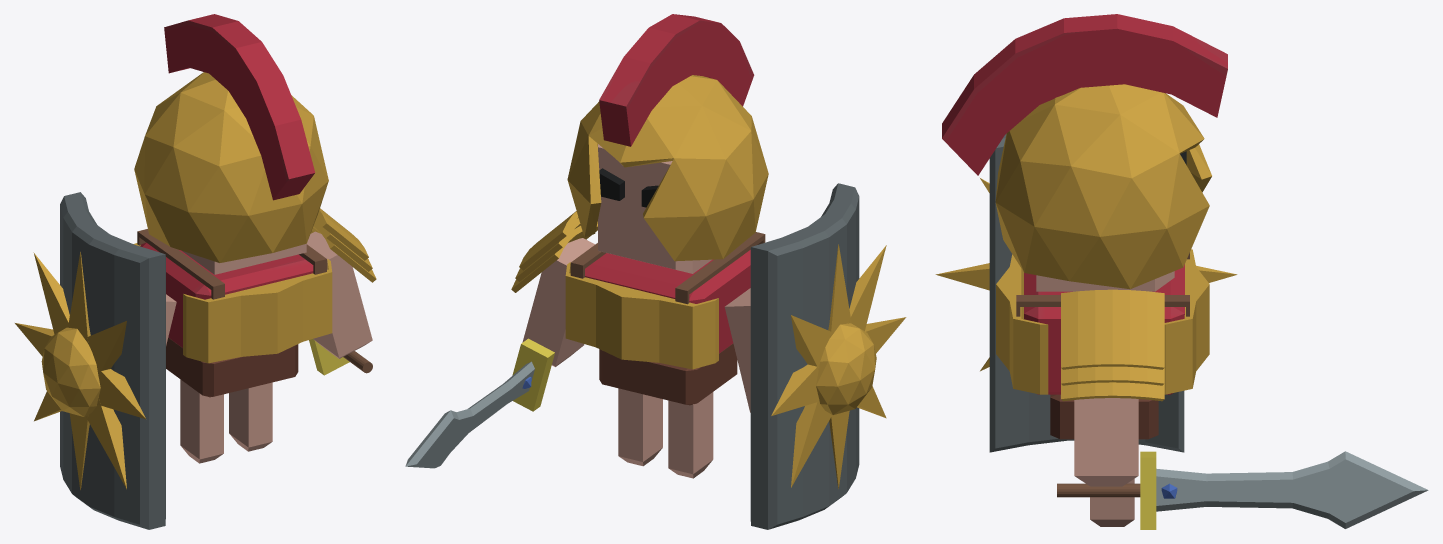
Rendered from Knight.FBX.
The picture shows the model from 3 angles, left to right: view 1: azimuth 30°, elevation 25°; view 2: azimuth 150°, elevation 25°; view 3: azimuth 270°, elevation 25°; orthographic projection. The views are drawn at different scales.
Visible parts, largest first — view 1: GeoSphere002, Box014, Box015, Box020, Box009, GeoSphere003, Box001, Box011, Box002, Box010, Pyramid008, Pyramid003 (+12 smaller); view 2: Box014, GeoSphere002, Box019, Box015, Box004, Box001, Box009, GeoSphere003, Box011, Box012, Box002, Box010 (+13 smaller); view 3: GeoSphere002, Box015, Box012, Box014, Box016, Box011, Box020, Box019, Box001, Box009, Box017, Box018 (+6 smaller).
Part boxes in pixels (left/top/right/bottom): GeoSphere002: left=134, top=72, right=328, bottom=262; Box014: left=60, top=192, right=165, bottom=529; Box015: left=164, top=14, right=315, bottom=200; Box020: left=183, top=259, right=332, bottom=363; Box009: left=166, top=337, right=298, bottom=397; GeoSphere003: left=41, top=327, right=100, bottom=416; Box001: left=140, top=242, right=313, bottom=347; Box011: left=306, top=231, right=372, bottom=358; Box002: left=180, top=379, right=223, bottom=463; Box010: left=229, top=382, right=272, bottom=451; Pyramid008: left=85, top=398, right=126, bottom=489; Pyramid003: left=97, top=367, right=145, bottom=419; Box014: left=750, top=183, right=859, bottom=529; GeoSphere002: left=567, top=75, right=768, bottom=261; Box019: left=565, top=262, right=718, bottom=369; Box015: left=599, top=14, right=754, bottom=146; Box004: left=598, top=144, right=711, bottom=273; Box001: left=585, top=250, right=750, bottom=353; Box009: left=599, top=343, right=737, bottom=405; GeoSphere003: left=816, top=323, right=876, bottom=414; Box011: left=522, top=238, right=594, bottom=366; Box012: left=405, top=361, right=534, bottom=468; Box002: left=668, top=392, right=713, bottom=478; Box010: left=618, top=388, right=662, bottom=466; GeoSphere002: left=995, top=84, right=1211, bottom=289; Box015: left=942, top=14, right=1227, bottom=175; Box012: left=1156, top=451, right=1428, bottom=528; Box014: left=989, top=134, right=1184, bottom=452; Box016: left=1061, top=289, right=1164, bottom=369; Box011: left=1074, top=398, right=1138, bottom=486; Box020: left=996, top=254, right=1048, bottom=394; Box019: left=1164, top=249, right=1209, bottom=394; Box001: left=1024, top=264, right=1184, bottom=394; Box009: left=1050, top=394, right=1158, bottom=439; Box017: left=1061, top=366, right=1164, bottom=385; Box018: left=1061, top=382, right=1164, bottom=401.
Size of the model in its own units: 22.01 by 28.21 by 25.45.
